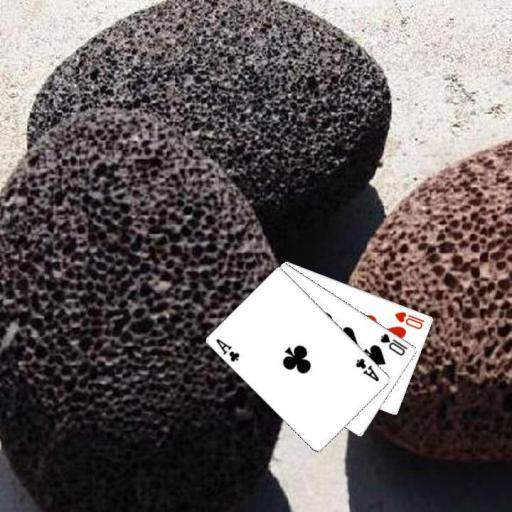10H: (392, 308, 426, 331)
10S: (377, 330, 409, 357)
AC: (353, 355, 381, 383), (213, 335, 241, 363)
